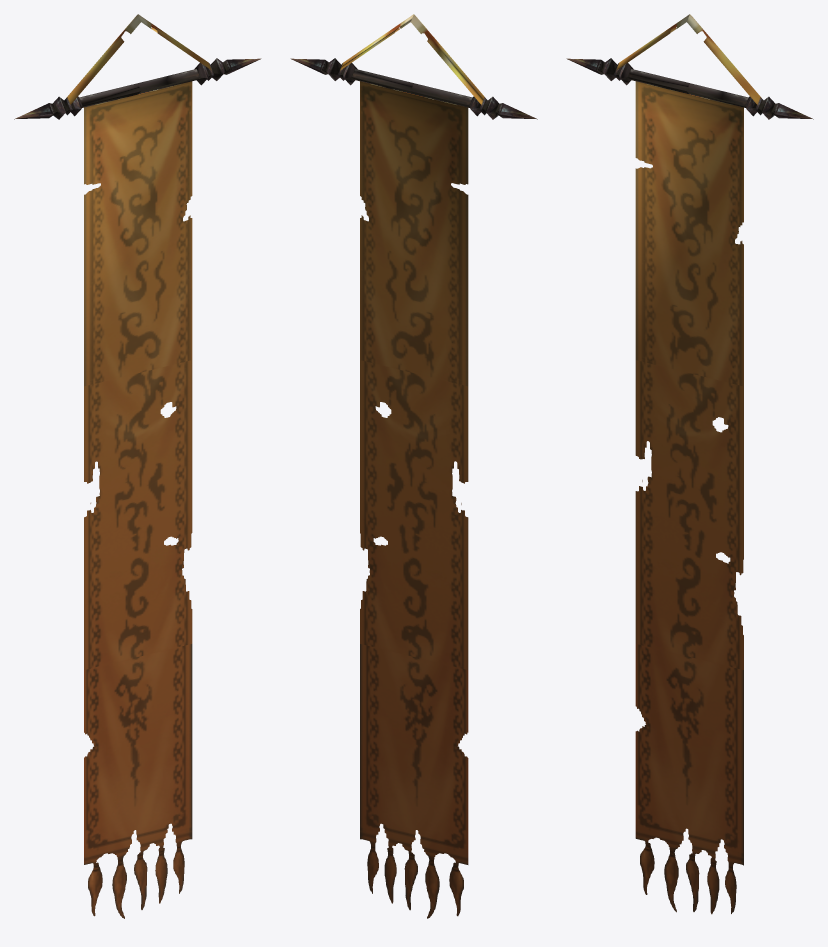
File: sysd_plant02.FBX
The picture shows the model from 3 angles, left to right: view 1: azimuth 30°, elevation 25°; view 2: azimuth 150°, elevation 25°; view 3: azimuth 330°, elevation 25°; orthographic projection.
Visible parts, largest first — view 1: sysd_plant02; view 2: sysd_plant02; view 3: sysd_plant02.
Boxes of the visible parts, <box> form: sysd_plant02: <box>14,14,261,918</box>; sysd_plant02: <box>290,14,537,918</box>; sysd_plant02: <box>566,14,813,914</box>.
Size of the model in its own units: 276 by 963 by 25.79.
1 material, 1 textured.
